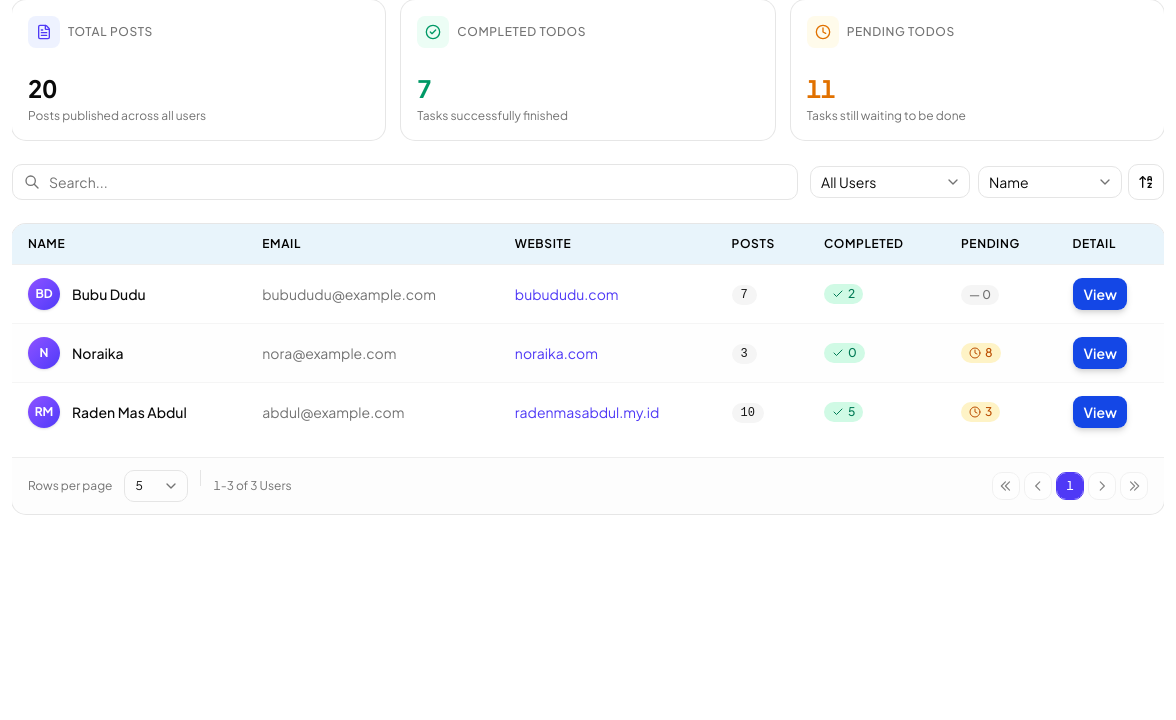
Test: User List › search filters › filters users by email
Type "nora@example.com" into the field with placeholder "Search..." at [405, 182], box [12, 164, 798, 200]
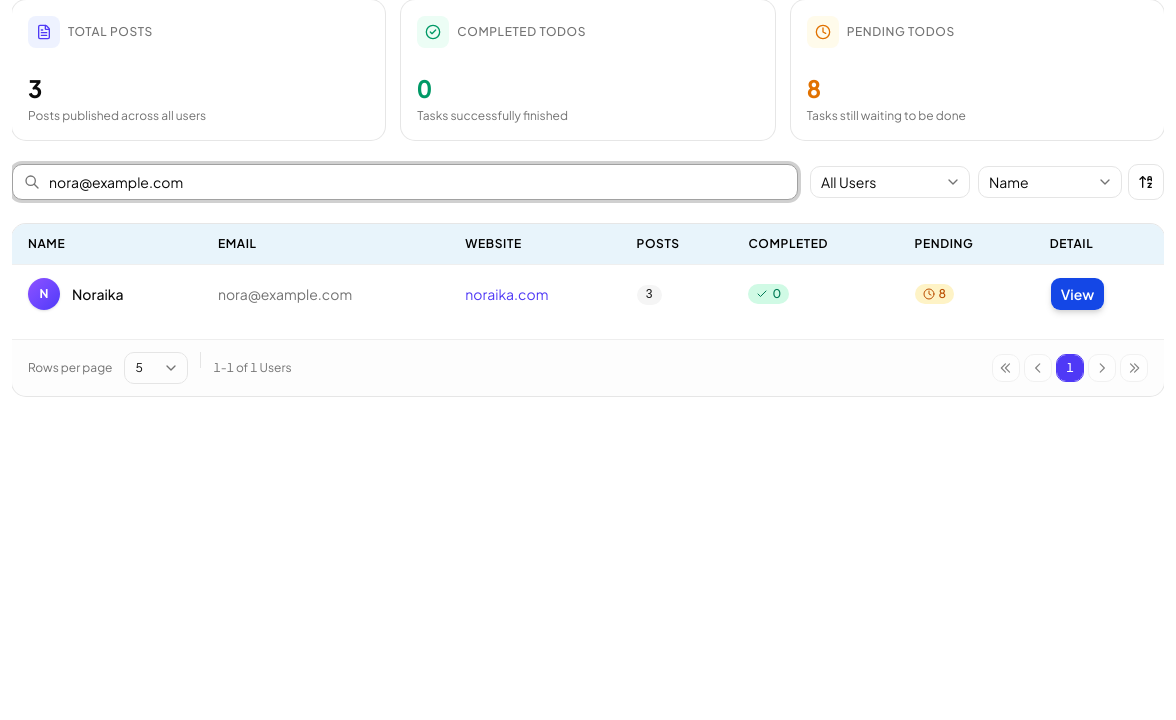
expect the text "Noraika" is shown: met, box [72, 284, 124, 304]
expect the text "Bubu Dudu" is gone: met
